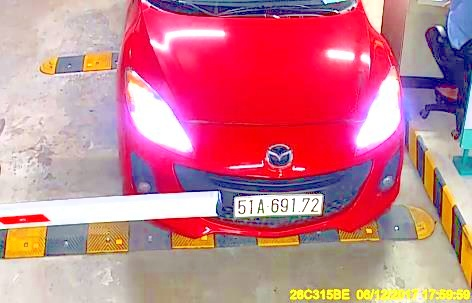plate: (232, 186, 326, 220)
